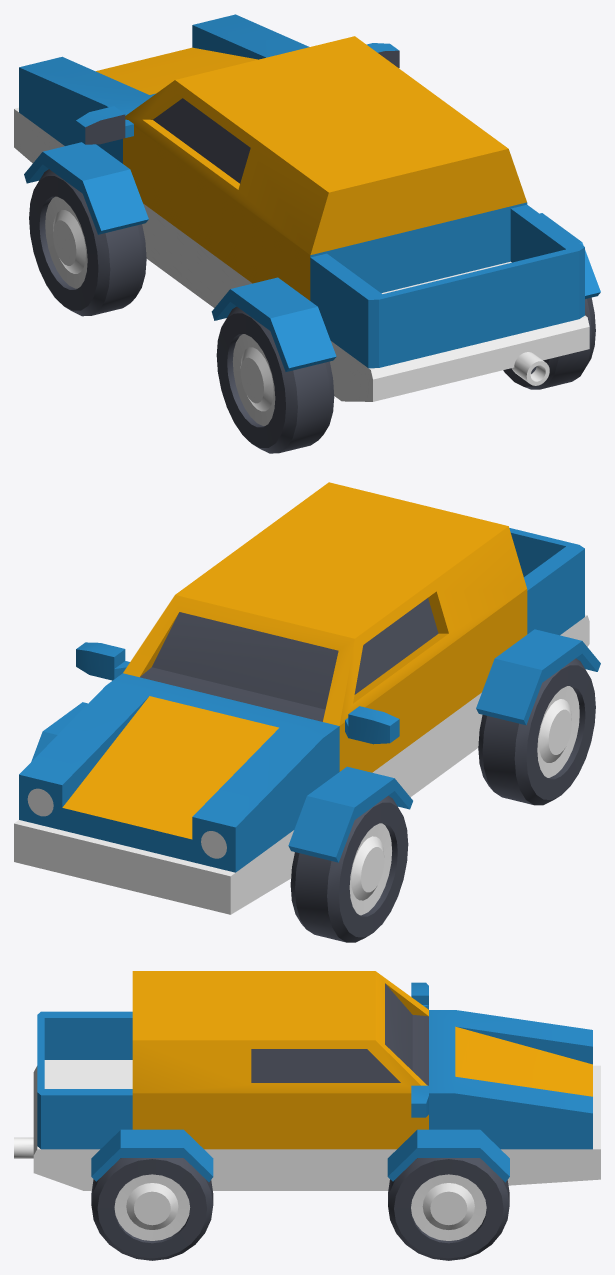
Rendered from Player Truck 1.fbx.
The picture shows the model from 3 angles, top to bottom: view 1: azimuth 30°, elevation 25°; view 2: azimuth 150°, elevation 25°; view 3: azimuth 270°, elevation 25°; orthographic projection. The views are drawn at different scales.
Parts seen in each view (by area): view 1: windshield_square_151, trunk_bed_152, hood_square_147, wheel_small_160, wheel_small_159, detail_fenderSquare_162, detail_fenderSquare_161, wheel_small_164, detail_mirror_155, detail_exhaust_168, detail_fenderSquare_163; view 2: windshield_square_151, hood_square_147, wheel_small_159, wheel_small_160, trunk_bed_152, detail_fenderSquare_161, detail_fenderSquare_162, detail_mirror_155, detail_mirror_156, detail_fenderSquare_165; view 3: windshield_square_151, hood_square_147, trunk_bed_152, wheel_small_164, wheel_small_166, detail_fenderSquare_165, detail_fenderSquare_163, detail_mirror_156, detail_exhaust_168.
Boxes of the visible parts, x1=… form: windshield_square_151: x1=123, y1=36, x2=527, y2=307; trunk_bed_152: x1=310, y1=204, x2=589, y2=401; hood_square_147: x1=14, y1=14, x2=309, y2=163; wheel_small_160: x1=216, y1=306, x2=334, y2=453; wheel_small_159: x1=29, y1=169, x2=146, y2=316; detail_fenderSquare_162: x1=211, y1=277, x2=336, y2=371; detail_fenderSquare_161: x1=24, y1=142, x2=148, y2=234; wheel_small_164: x1=503, y1=297, x2=595, y2=389; detail_mirror_155: x1=76, y1=106, x2=133, y2=144; detail_exhaust_168: x1=511, y1=352, x2=549, y2=385; detail_fenderSquare_163: x1=540, y1=213, x2=600, y2=298; windshield_square_151: x1=123, y1=482, x2=527, y2=797; hood_square_147: x1=14, y1=673, x2=339, y2=914; wheel_small_159: x1=290, y1=795, x2=408, y2=942; wheel_small_160: x1=478, y1=658, x2=595, y2=805; trunk_bed_152: x1=509, y1=528, x2=589, y2=646; detail_fenderSquare_161: x1=288, y1=766, x2=412, y2=862; detail_fenderSquare_162: x1=476, y1=629, x2=600, y2=725; detail_mirror_155: x1=345, y1=706, x2=399, y2=744; detail_mirror_156: x1=76, y1=642, x2=129, y2=680; detail_fenderSquare_165: x1=31, y1=702, x2=88, y2=761; windshield_square_151: x1=132, y1=971, x2=428, y2=1190; hood_square_147: x1=429, y1=1010, x2=600, y2=1185; trunk_bed_152: x1=33, y1=1011, x2=132, y2=1190; wheel_small_164: x1=91, y1=1158, x2=213, y2=1260; wheel_small_166: x1=388, y1=1158, x2=509, y2=1260; detail_fenderSquare_165: x1=387, y1=1129, x2=509, y2=1182; detail_fenderSquare_163: x1=91, y1=1129, x2=213, y2=1181; detail_mirror_156: x1=411, y1=1085, x2=428, y2=1117; detail_exhaust_168: x1=14, y1=1137, x2=33, y2=1158.
Bounding box in the file's own units: 14.5 × 11.08 × 29.7.
